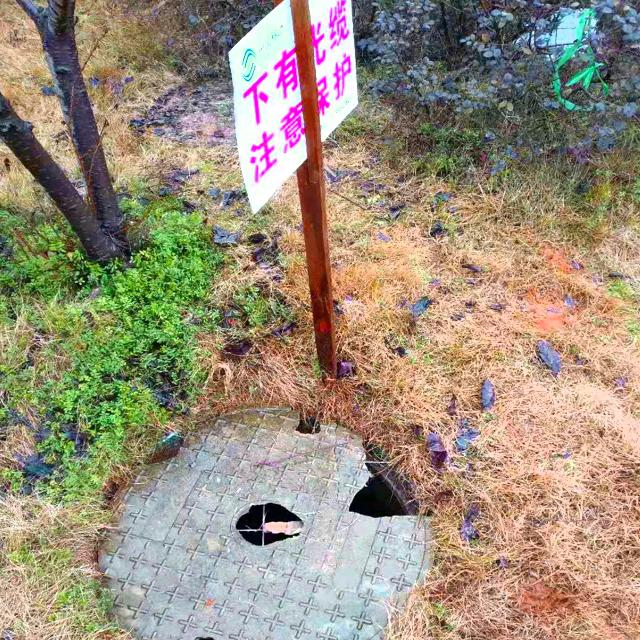broke: (93, 403, 433, 640)
